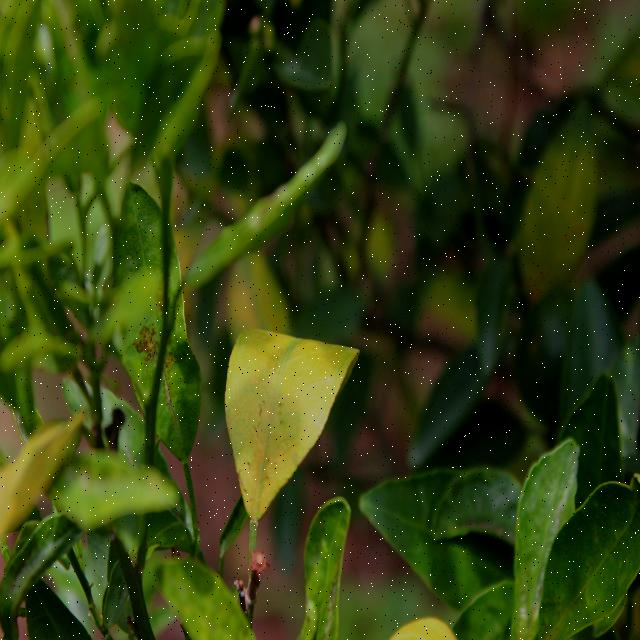greening: (214, 323, 356, 509)
